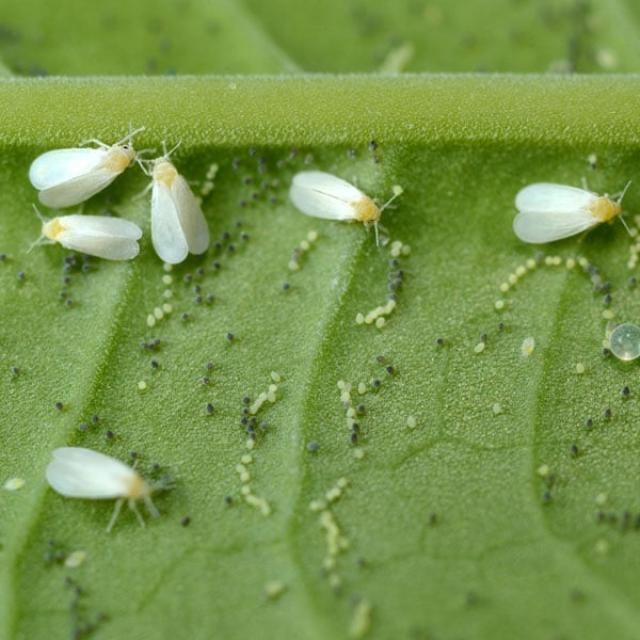BemisiaTabaci: (26, 428, 178, 527), (24, 115, 139, 212), (502, 167, 630, 250), (280, 151, 394, 241), (146, 139, 218, 269), (16, 206, 148, 270)
